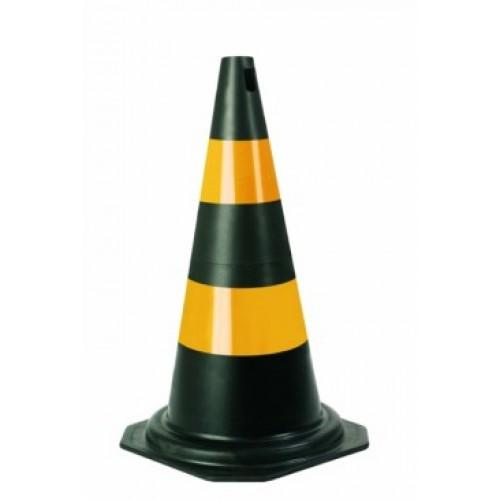traffic_cone: (119, 54, 370, 483)
